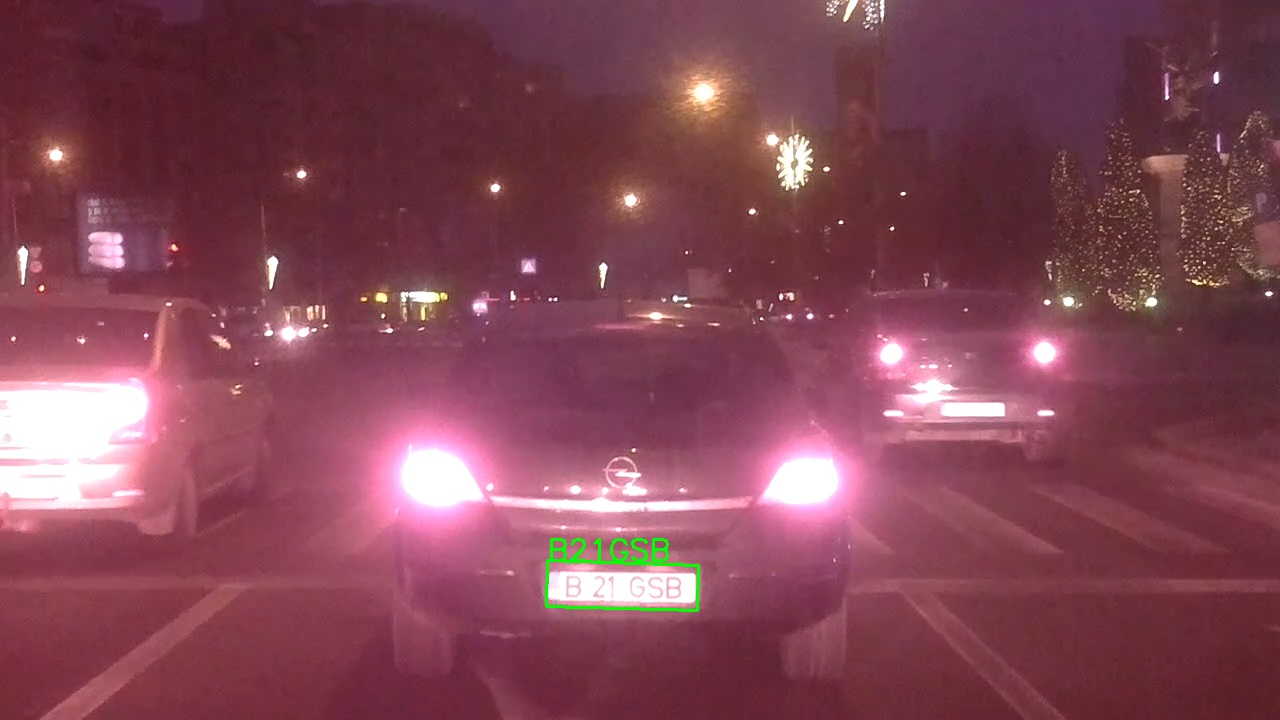license-plate: (545, 560, 700, 612)
